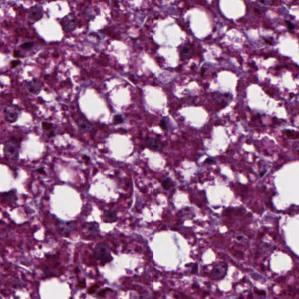steatosis: (47, 181, 84, 222)
